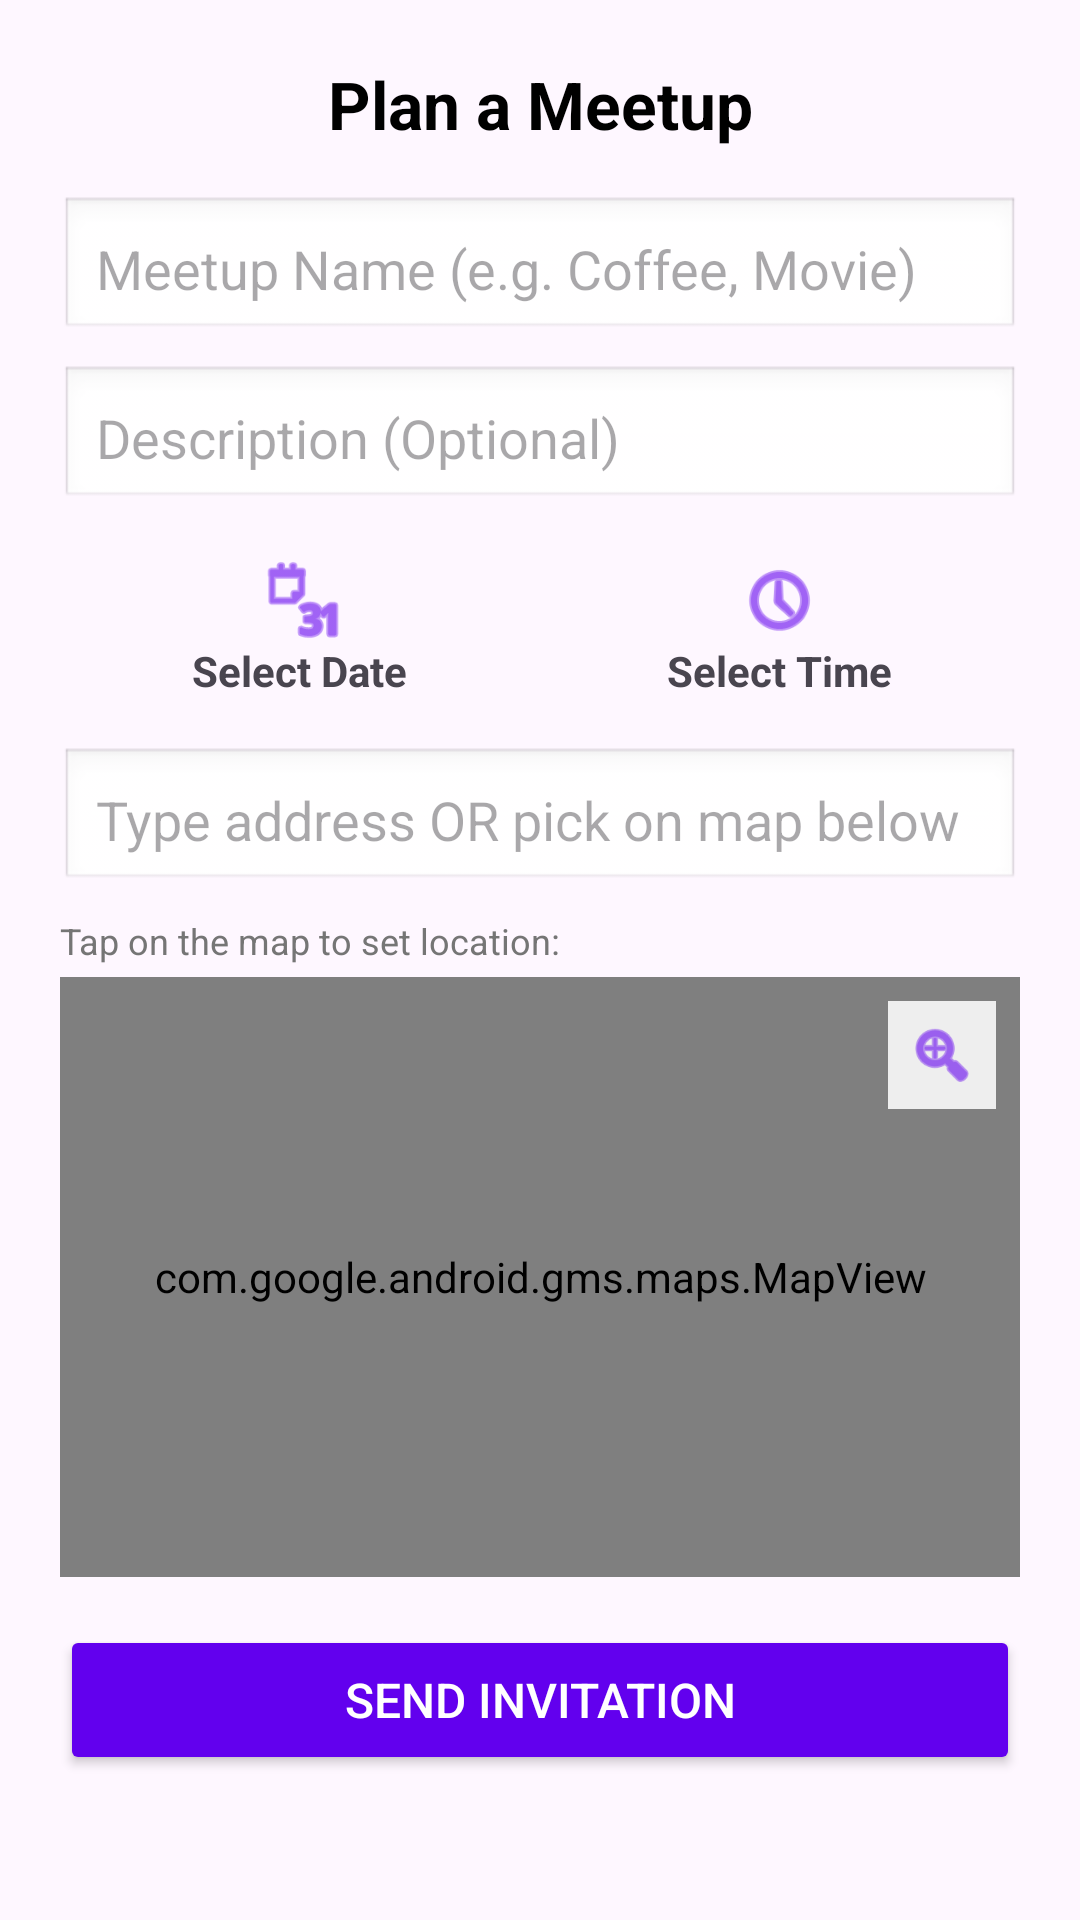

Screen size 1080×1920. Icon name, then its center in pixels as [x,y]:
month: [303,600]
recent history: [779,600]
zoom: [942,1055]
